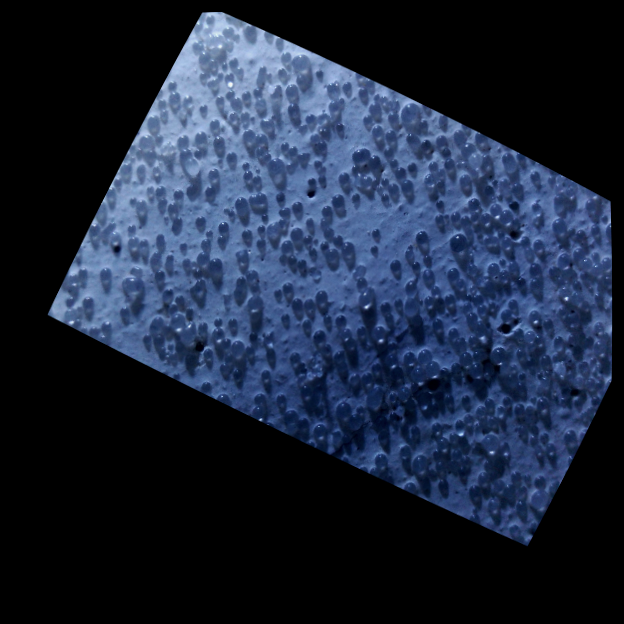GrassBeadSeg: (203, 49, 591, 401), (112, 137, 537, 444), (156, 131, 555, 451), (220, 59, 513, 493), (158, 120, 548, 442), (205, 12, 544, 361), (225, 87, 504, 494), (229, 52, 542, 406), (226, 24, 562, 342), (182, 78, 498, 412), (200, 51, 516, 374), (276, 87, 583, 404), (232, 30, 569, 312), (181, 110, 603, 329), (143, 134, 554, 358), (241, 91, 584, 357), (281, 139, 525, 509), (121, 143, 432, 428), (213, 134, 601, 351), (167, 251, 505, 489), (224, 24, 420, 433), (238, 71, 536, 339), (288, 101, 583, 368), (81, 268, 508, 451), (225, 70, 441, 430), (155, 183, 416, 468), (99, 265, 484, 445), (304, 208, 534, 507), (273, 82, 566, 315), (201, 247, 489, 481), (361, 86, 606, 351), (139, 236, 505, 413), (254, 156, 513, 399), (258, 63, 478, 344), (336, 151, 515, 491), (264, 196, 592, 378), (209, 117, 440, 373), (222, 335, 517, 532), (316, 75, 548, 325), (129, 175, 510, 310), (216, 70, 398, 347), (99, 70, 343, 276), (330, 219, 521, 480), (262, 68, 410, 395), (178, 132, 381, 368), (298, 250, 569, 426), (296, 71, 604, 221), (409, 167, 574, 440), (337, 122, 496, 405), (157, 267, 387, 462), (390, 156, 587, 377), (166, 130, 418, 296), (383, 127, 610, 310), (155, 168, 538, 276), (386, 154, 548, 407), (250, 79, 394, 362), (400, 177, 547, 448), (261, 236, 542, 375), (256, 241, 492, 405), (334, 163, 533, 356), (235, 65, 555, 184), (288, 275, 541, 420), (203, 76, 330, 356), (169, 90, 436, 223), (180, 93, 330, 323), (344, 334, 519, 531), (88, 220, 264, 415), (79, 138, 326, 274), (208, 117, 427, 268), (371, 122, 538, 319), (101, 66, 224, 330), (163, 200, 501, 296), (374, 131, 611, 267), (171, 233, 529, 322), (282, 204, 410, 452), (241, 109, 414, 290), (324, 141, 473, 351), (466, 146, 595, 388), (141, 174, 549, 248), (328, 98, 471, 309), (274, 192, 565, 295), (129, 234, 558, 303), (367, 280, 611, 401), (235, 211, 443, 352), (198, 223, 458, 334), (349, 273, 611, 379), (277, 182, 513, 297), (243, 89, 454, 217), (242, 226, 431, 360), (371, 109, 468, 364), (228, 181, 398, 323), (305, 137, 431, 328), (407, 222, 514, 440), (323, 182, 492, 320), (213, 127, 324, 337), (157, 139, 283, 321), (173, 186, 321, 340), (211, 145, 393, 270), (315, 67, 460, 219), (371, 359, 545, 485), (339, 144, 450, 335), (220, 100, 381, 230), (111, 145, 318, 243), (243, 103, 496, 183), (76, 142, 193, 312), (175, 243, 415, 324), (147, 147, 306, 268), (405, 278, 583, 386), (501, 198, 595, 402), (450, 278, 533, 502), (334, 195, 479, 322), (303, 316, 512, 404), (257, 121, 422, 232), (237, 206, 585, 258), (119, 304, 559, 345), (321, 203, 455, 337), (242, 159, 308, 428), (218, 130, 395, 229), (261, 200, 500, 273), (200, 101, 390, 191), (344, 331, 577, 404), (83, 210, 218, 335), (322, 319, 449, 447), (358, 222, 600, 289), (281, 312, 387, 464), (255, 101, 417, 200), (281, 156, 453, 249), (168, 200, 511, 246), (253, 85, 413, 182), (299, 359, 433, 470), (217, 326, 363, 425), (325, 214, 449, 328), (352, 107, 403, 382), (299, 99, 398, 240), (305, 215, 397, 365), (406, 160, 594, 233), (200, 236, 554, 274), (236, 274, 362, 380), (291, 199, 385, 337), (308, 132, 446, 226), (387, 86, 501, 198), (201, 117, 246, 389), (389, 257, 506, 361), (276, 189, 565, 231), (373, 111, 435, 303), (229, 296, 611, 327), (283, 280, 428, 361), (242, 234, 540, 273), (201, 246, 337, 331), (226, 81, 371, 159), (170, 126, 254, 259), (214, 240, 344, 324), (257, 177, 412, 247), (406, 260, 500, 374), (173, 313, 316, 386), (355, 324, 427, 468), (279, 194, 419, 268), (352, 146, 415, 310), (198, 292, 484, 328), (381, 176, 607, 219), (409, 251, 511, 346), (473, 263, 557, 376), (402, 172, 470, 311), (211, 49, 284, 178), (496, 192, 591, 291), (356, 167, 433, 287), (455, 276, 507, 452), (150, 20, 202, 193), (234, 178, 532, 208), (246, 198, 357, 278), (174, 292, 477, 321), (236, 190, 360, 260), (508, 258, 575, 383), (153, 302, 487, 326), (531, 274, 562, 528), (130, 107, 326, 145), (171, 77, 275, 147), (334, 205, 433, 278), (483, 184, 525, 356), (458, 200, 541, 286), (290, 296, 401, 358), (296, 206, 326, 435), (482, 308, 531, 447), (290, 225, 322, 435), (230, 337, 374, 381), (218, 114, 331, 170), (354, 170, 518, 208), (198, 142, 437, 168), (305, 226, 380, 308), (407, 295, 501, 360), (196, 252, 302, 309), (287, 81, 348, 180), (534, 219, 555, 504), (254, 390, 520, 412), (512, 208, 583, 289), (426, 127, 458, 305), (501, 151, 526, 378), (287, 192, 343, 293), (208, 186, 328, 233), (257, 85, 322, 166), (206, 218, 481, 237), (253, 382, 393, 419), (415, 228, 532, 272), (213, 76, 333, 118), (339, 102, 388, 202), (332, 388, 429, 438), (344, 84, 363, 337), (468, 317, 552, 374), (167, 30, 246, 89), (471, 201, 526, 284), (284, 402, 524, 421), (156, 206, 281, 242), (466, 310, 549, 364), (152, 221, 280, 256), (107, 145, 197, 194), (369, 111, 443, 166), (304, 301, 511, 320), (431, 172, 463, 294), (345, 239, 393, 320), (255, 150, 371, 183), (334, 180, 350, 415), (236, 254, 291, 322), (128, 222, 164, 325), (208, 55, 238, 176), (403, 447, 481, 493), (483, 458, 556, 506), (305, 112, 333, 235), (438, 166, 483, 239), (526, 355, 597, 400), (387, 343, 561, 361), (217, 120, 342, 145), (463, 233, 509, 300), (458, 128, 471, 362), (438, 403, 482, 471), (248, 73, 271, 203), (517, 374, 592, 413), (227, 210, 286, 259), (358, 113, 371, 335), (487, 214, 517, 308), (499, 266, 589, 297), (199, 206, 233, 286), (314, 269, 395, 302), (508, 364, 531, 480), (433, 360, 461, 455), (403, 479, 498, 507), (323, 98, 392, 136), (424, 231, 466, 291), (437, 413, 472, 485), (109, 214, 168, 256), (442, 112, 491, 162), (165, 330, 271, 353), (149, 146, 202, 191), (499, 256, 560, 293), (180, 183, 213, 251), (244, 166, 257, 338), (525, 182, 555, 256), (281, 215, 327, 262), (316, 166, 433, 184), (428, 470, 471, 518), (566, 191, 593, 266), (301, 87, 328, 161), (436, 130, 484, 171), (369, 235, 396, 305), (355, 388, 433, 412), (512, 325, 536, 402), (549, 396, 568, 487), (150, 85, 192, 126), (584, 295, 610, 361), (191, 264, 254, 291), (332, 432, 372, 474), (291, 348, 415, 361), (91, 326, 160, 349), (255, 95, 397, 106), (413, 364, 519, 378), (242, 130, 262, 201), (232, 69, 270, 106), (357, 390, 395, 425), (224, 334, 275, 359), (120, 160, 146, 208), (140, 152, 196, 174), (461, 346, 482, 402), (429, 361, 452, 410), (269, 219, 317, 242), (520, 435, 544, 480), (66, 294, 95, 331), (173, 182, 196, 227), (435, 392, 450, 457), (579, 376, 602, 418), (370, 464, 408, 489), (389, 408, 416, 443), (222, 341, 248, 377), (516, 331, 543, 365), (461, 213, 503, 234), (247, 280, 259, 353), (257, 149, 295, 172), (207, 22, 254, 40), (499, 232, 533, 255), (321, 80, 336, 132), (478, 413, 520, 431), (465, 283, 494, 308), (298, 149, 317, 186), (299, 356, 322, 386), (287, 247, 323, 266), (110, 198, 131, 230), (388, 388, 443, 400), (530, 366, 550, 399), (195, 218, 209, 262), (199, 23, 210, 77), (151, 337, 178, 358), (435, 458, 468, 475), (338, 93, 386, 104), (471, 518, 536, 526), (435, 149, 443, 209), (591, 249, 601, 296), (135, 138, 170, 150), (153, 320, 170, 344), (67, 269, 78, 303), (441, 456, 453, 487), (560, 394, 600, 403), (67, 279, 76, 318), (64, 306, 81, 326), (136, 195, 166, 206), (277, 49, 290, 74), (129, 158, 136, 204), (456, 449, 469, 473), (590, 354, 601, 382), (446, 394, 453, 437), (147, 104, 162, 124), (130, 150, 162, 159), (475, 404, 486, 430), (219, 350, 233, 369), (108, 175, 121, 194), (455, 411, 470, 427), (556, 181, 574, 193), (319, 221, 327, 248), (158, 343, 172, 358), (321, 81, 327, 114), (255, 132, 265, 151), (158, 96, 167, 117), (451, 416, 459, 439), (229, 99, 237, 121), (194, 129, 207, 142), (451, 446, 459, 467), (447, 265, 459, 278), (430, 396, 439, 411), (205, 23, 213, 39), (480, 211, 491, 222), (195, 213, 205, 225), (518, 422, 528, 434), (136, 161, 146, 173), (335, 347, 345, 358), (469, 209, 478, 221), (145, 183, 154, 192), (372, 91, 380, 101), (161, 143, 173, 149), (154, 247, 161, 256), (472, 510, 478, 520), (107, 218, 115, 225)
